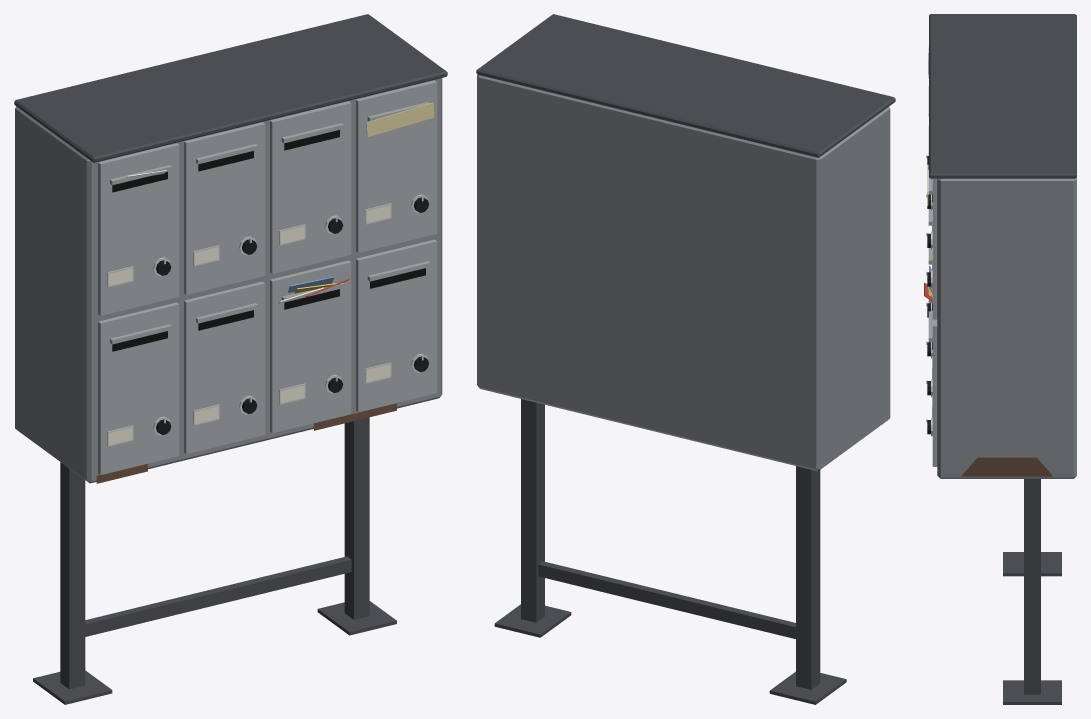
File: mailbox_set.glb
The picture shows the model from 3 angles, left to right: view 1: azimuth 30°, elevation 25°; view 2: azimuth 150°, elevation 25°; view 3: azimuth 270°, elevation 25°; orthographic projection. The views are drawn at different scales.
Visible parts, largest first — view 1: mailbox_set; view 2: mailbox_set; view 3: mailbox_set.
Part boxes in pixels (<box>): mailbox_set: <box>14,14,447,704</box>; mailbox_set: <box>476,14,895,704</box>; mailbox_set: <box>924,14,1076,704</box>.
Size of the model in its own units: 0.9005 by 1.4 by 0.3615.
